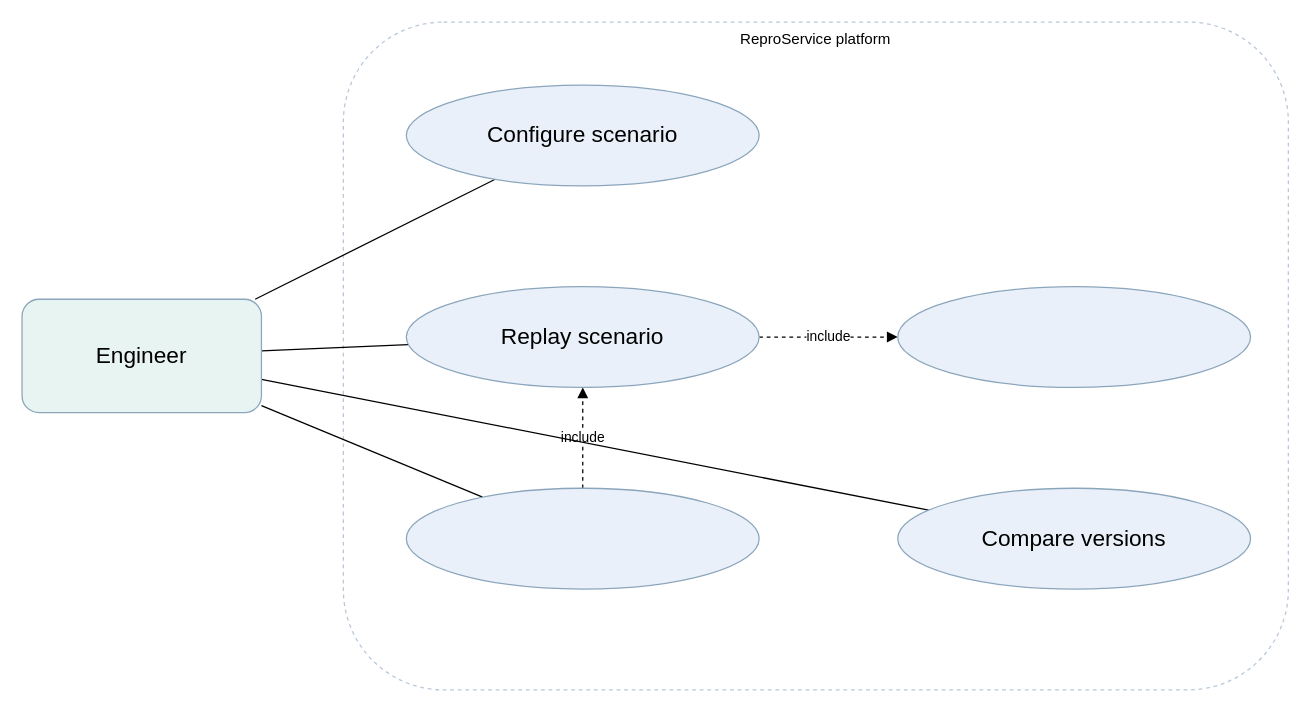
Image size: 1310x712. Some labels were removed from this diagram. The box of each missing label's shape, as (x1, y1, x2, y2) in pixels:
Check invariant: (896, 285, 1251, 387)
Reduce failure: (405, 487, 759, 589)
